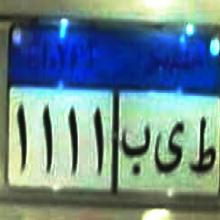1: (90, 105, 110, 174), (65, 103, 81, 173), (43, 106, 53, 172), (18, 106, 27, 170)
Taa: (189, 117, 216, 174)
baa: (121, 125, 152, 175)
yaa: (154, 119, 186, 173)
